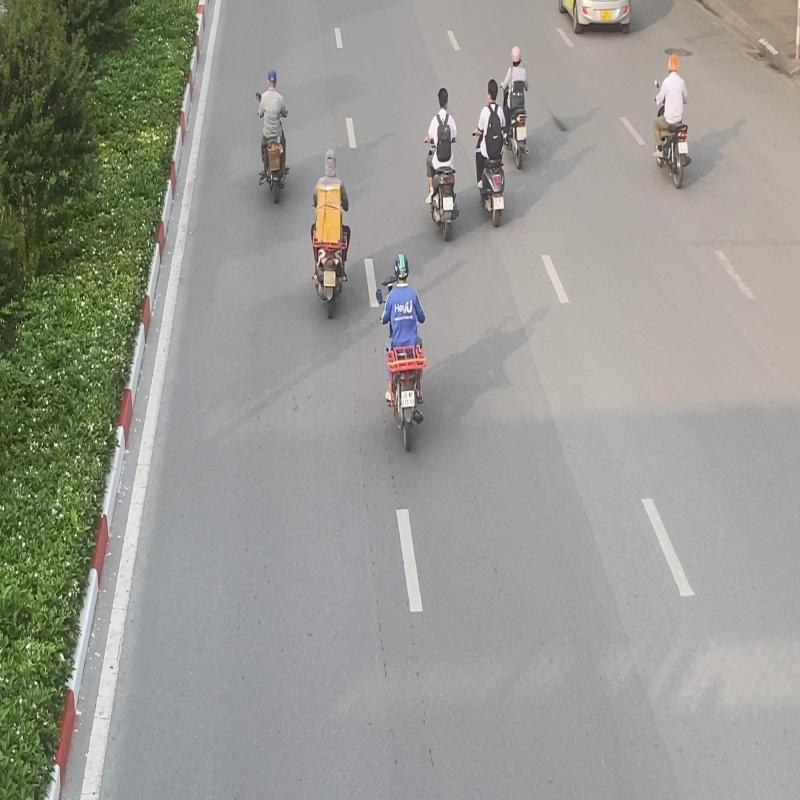helmet: (393, 254, 408, 278)
licenseplate: (400, 390, 416, 407), (443, 198, 454, 210), (494, 197, 504, 210)
motorcyclist: (375, 252, 428, 454), (422, 88, 462, 244), (474, 77, 507, 230)
nohelmet: (487, 78, 498, 104), (438, 88, 448, 108)
